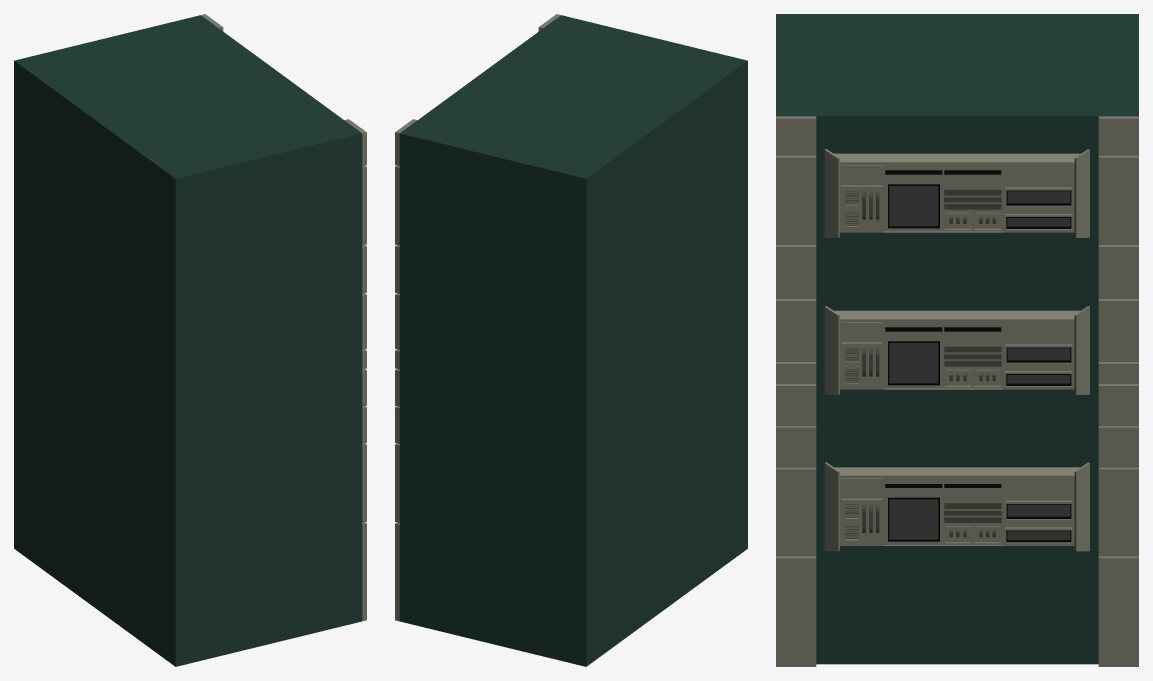
File: Server.fbx
The picture shows the model from 3 angles, left to right: view 1: azimuth 30°, elevation 25°; view 2: azimuth 150°, elevation 25°; view 3: azimuth 270°, elevation 25°; orthographic projection. The views are drawn at different scales.
Visible parts, largest first — view 1: Body, Panels; view 2: Body, Panels; view 3: Body, Panels, Server 1, Server 2, Server 3.
Boxes of the visible parts, x1=… form: Body: x1=14, y1=15, x2=362, y2=666; Panels: x1=201, y1=14, x2=366, y2=621; Body: x1=399, y1=15, x2=747, y2=666; Panels: x1=395, y1=14, x2=560, y2=621; Body: x1=776, y1=14, x2=1138, y2=664; Panels: x1=776, y1=116, x2=1138, y2=666; Server 1: x1=824, y1=149, x2=1089, y2=237; Server 2: x1=824, y1=306, x2=1089, y2=394; Server 3: x1=824, y1=462, x2=1089, y2=551.
Bounding box in the file's own units: 107 × 250 × 150.
